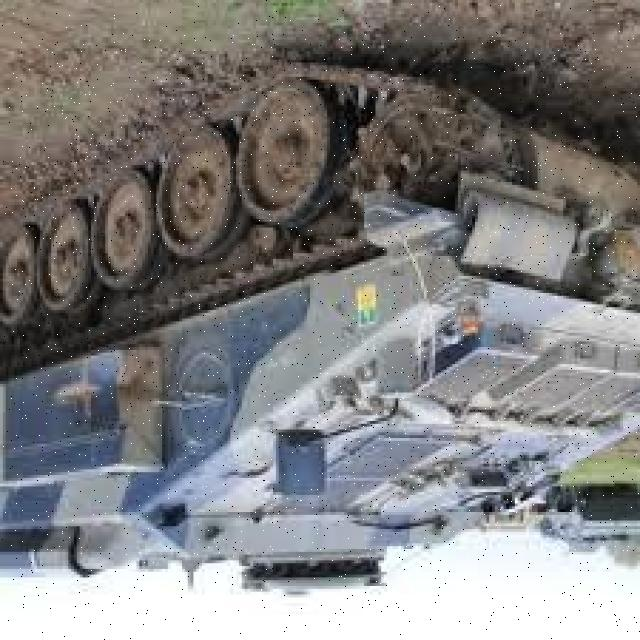MIL_MBT: (9, 31, 640, 626)
